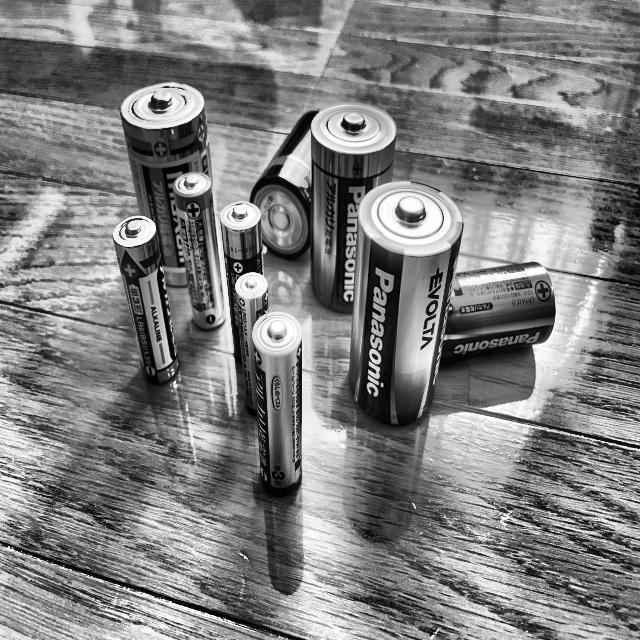drycell: (350, 181, 464, 424), (120, 81, 210, 286), (311, 102, 396, 312), (437, 263, 558, 374), (113, 216, 178, 384), (250, 311, 302, 496), (250, 112, 315, 258), (172, 171, 224, 329), (220, 200, 264, 361), (235, 272, 269, 414)
